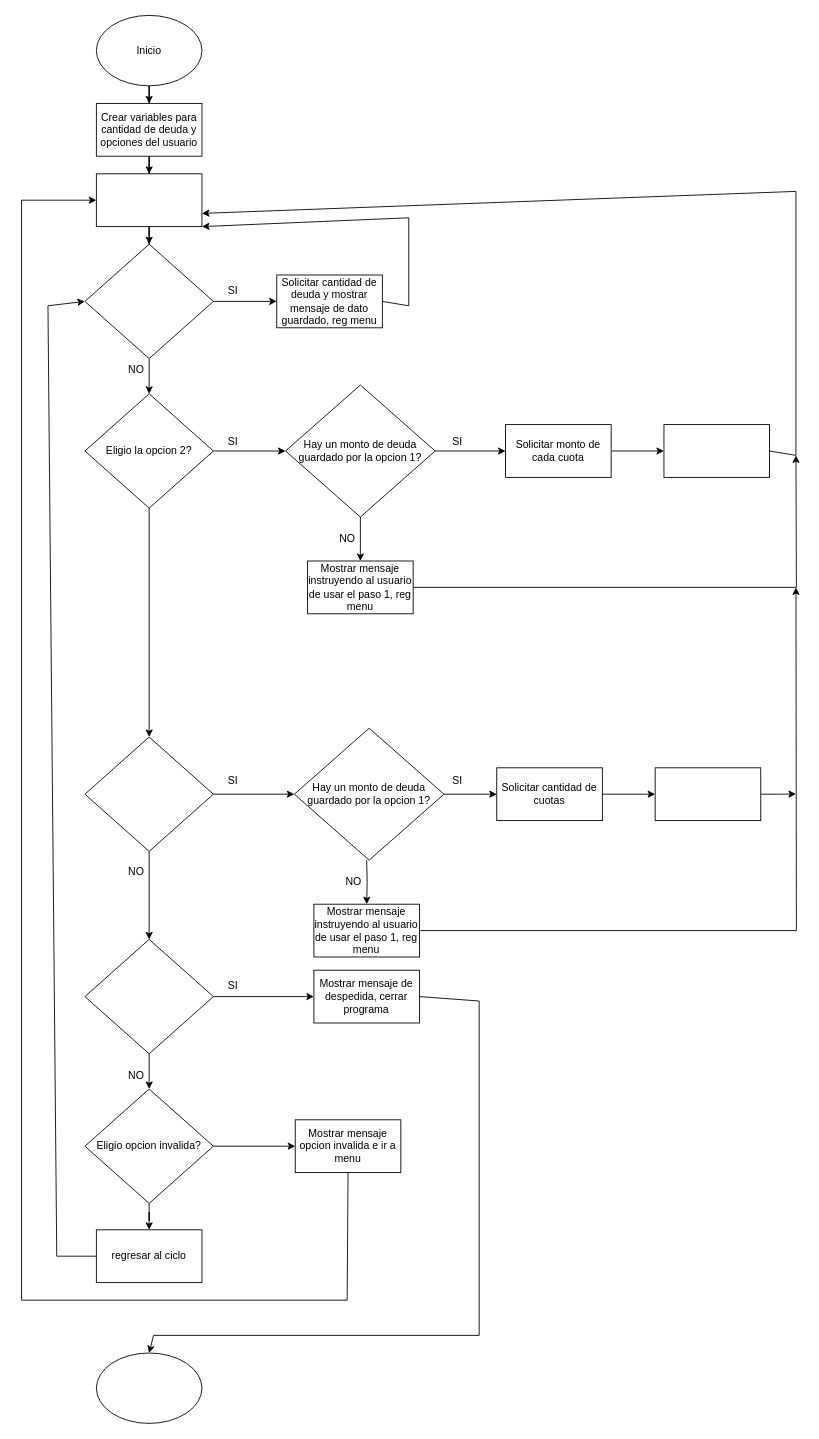
Some shapes in this 819 by 1439 pixel diagram are drawn without their labels. The shapes that lost their labels are listed below. From the top down, each one's centre as x and y in pixels, then its label:
At (148,200): "Mostrar menu con 4 opciones al usuario".
At (148,301): "Eligio la opcion 1?".
At (716,450): "Calcular numero de cuotas y mostrar al usuario, reg menu".
At (148,793): "Eligio la opcion 3?".
At (707,794): "Calcular el monto de cuotas y mostrar al usuario, reg menu".
At (148,996): "Eligio la opcion 4?".
At (148,1387): "FIN".
